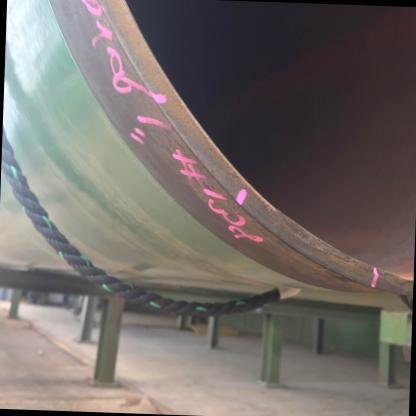Bevel: (252, 178, 362, 279)
